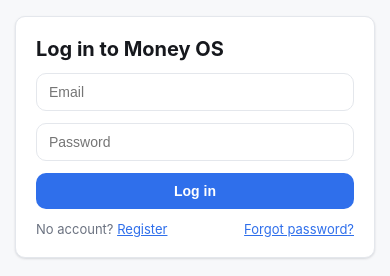
it: LoginPage › disables the submit button and shows a busy label while the request is in flight
The image size is (390, 276).
In the field with placeholder "Email": (195, 92) [36,73,354,111], type "demo@example.com"
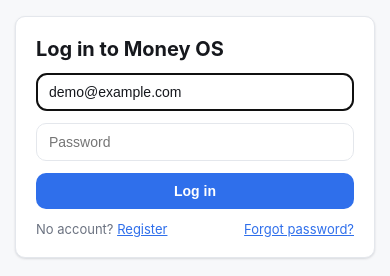
In the password field with placeholder "Password": (195, 142) [36,123,354,161], type "correct-horse-battery"
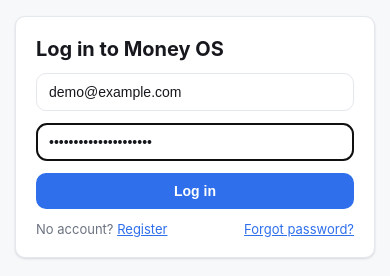
Click the button "Log in": (195, 191) [36,173,354,209]
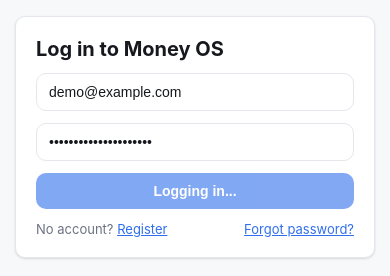
Result: the button "Logging in..." is disabled at [36,173,354,209]
